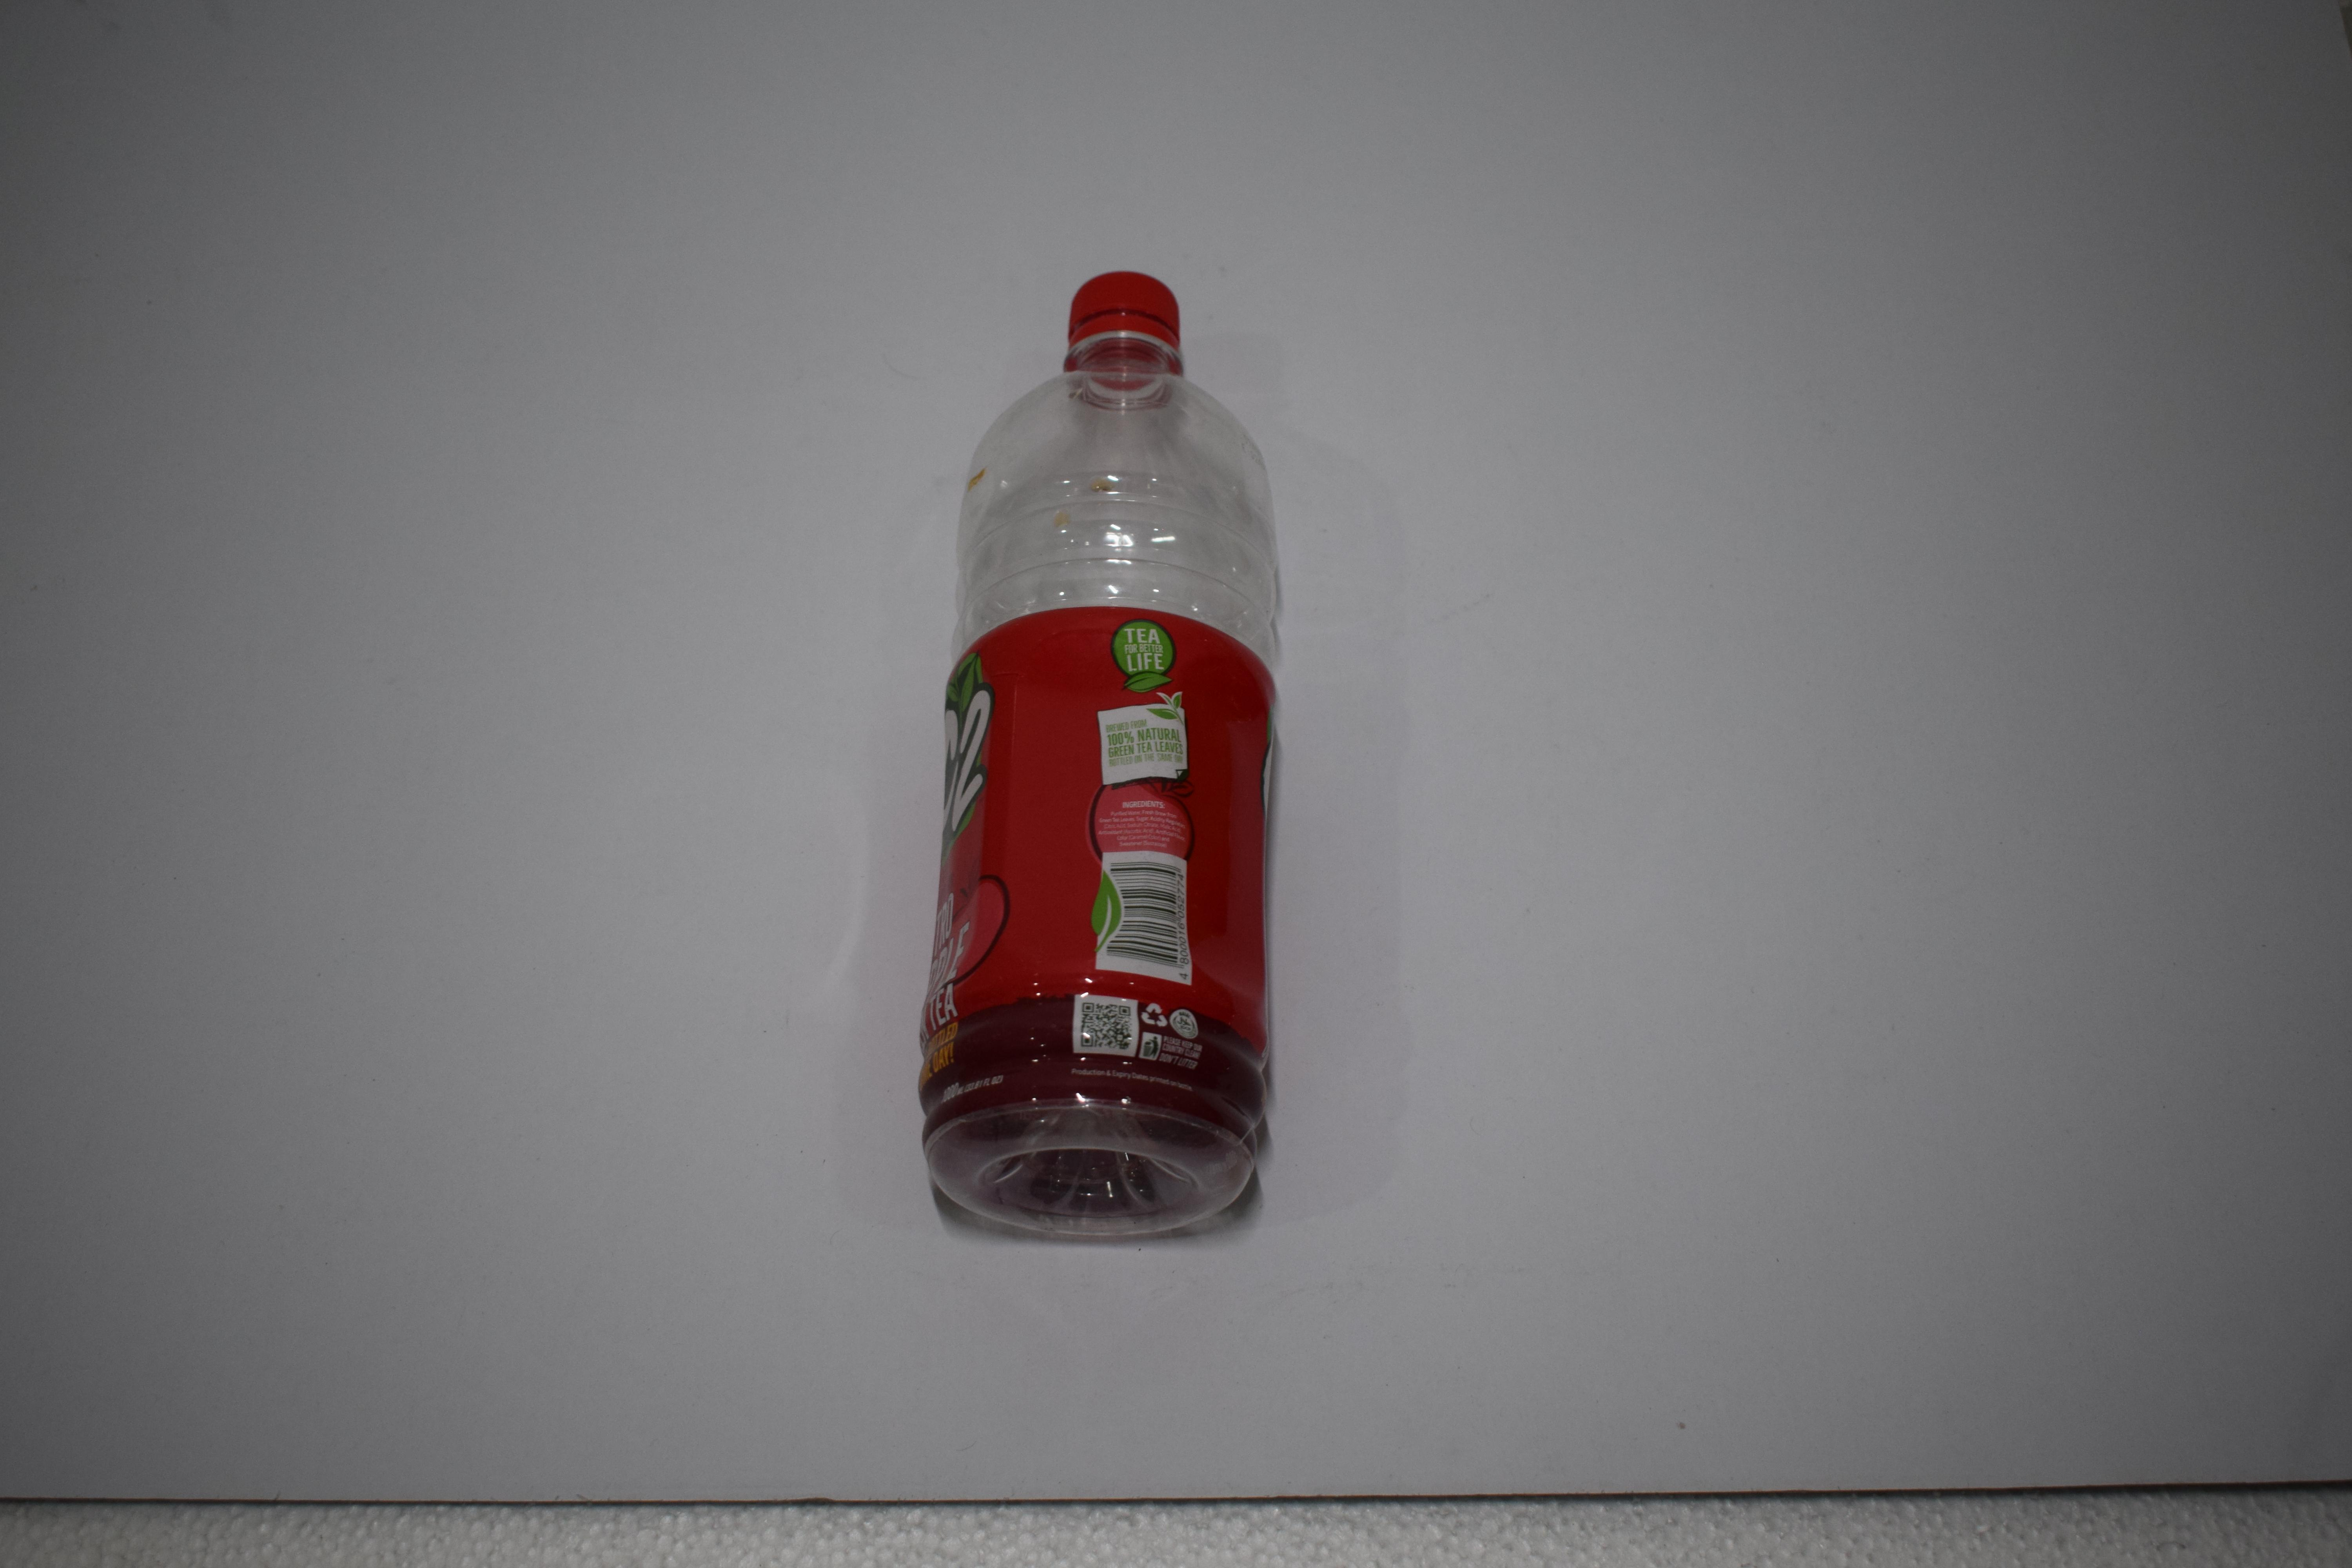bottle: (971, 259, 1225, 1246)
